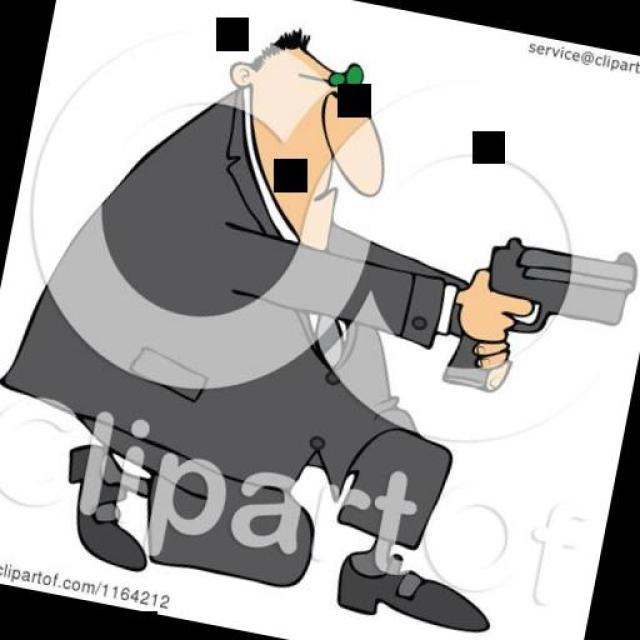gun: (440, 218, 640, 414)
